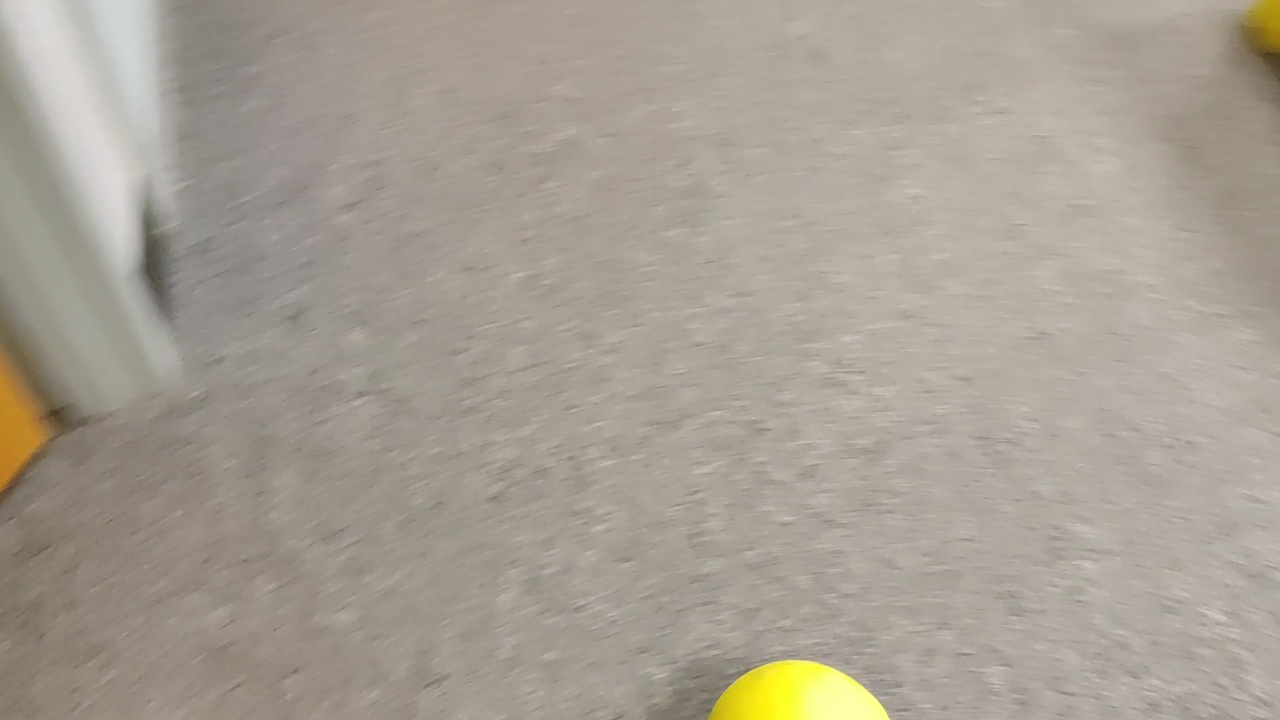Ball: (702, 659, 899, 720)
